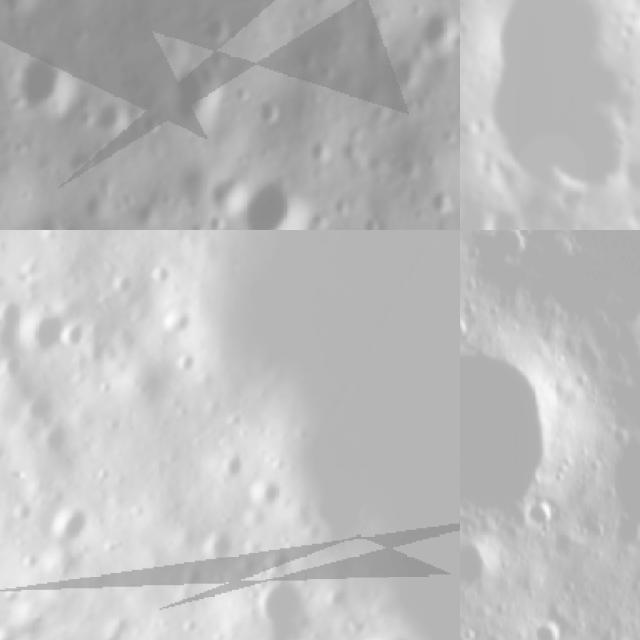crater: (468, 0, 628, 204), (460, 340, 568, 522), (241, 556, 338, 640), (31, 480, 119, 564), (10, 41, 91, 118), (592, 429, 640, 552), (13, 283, 80, 354), (172, 55, 232, 132), (235, 456, 296, 518), (189, 506, 247, 569), (238, 173, 301, 230), (345, 613, 436, 640), (460, 535, 503, 592), (478, 230, 529, 260), (522, 499, 560, 534), (482, 207, 525, 230), (530, 617, 563, 640), (631, 285, 640, 368), (460, 314, 474, 340)
